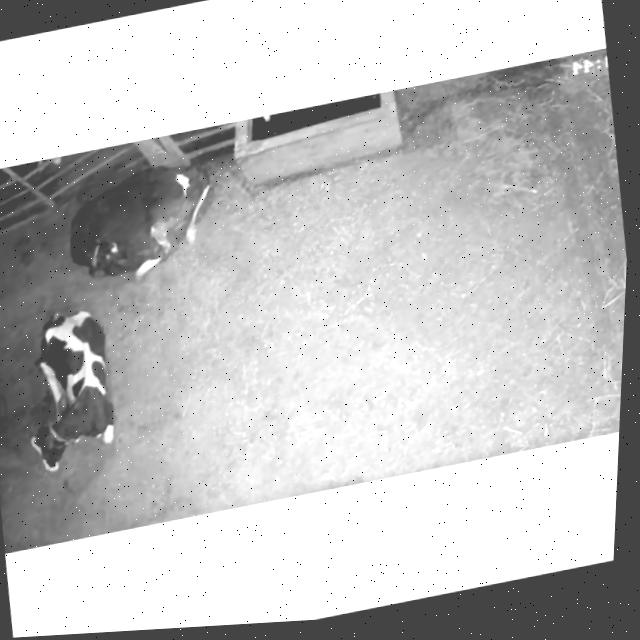lay: (0, 289, 148, 491), (46, 151, 226, 299)
